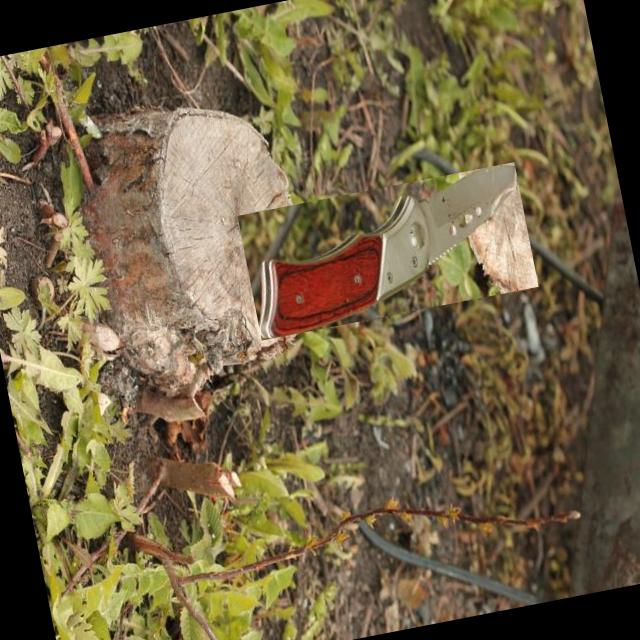Knife: (260, 165, 516, 339)
